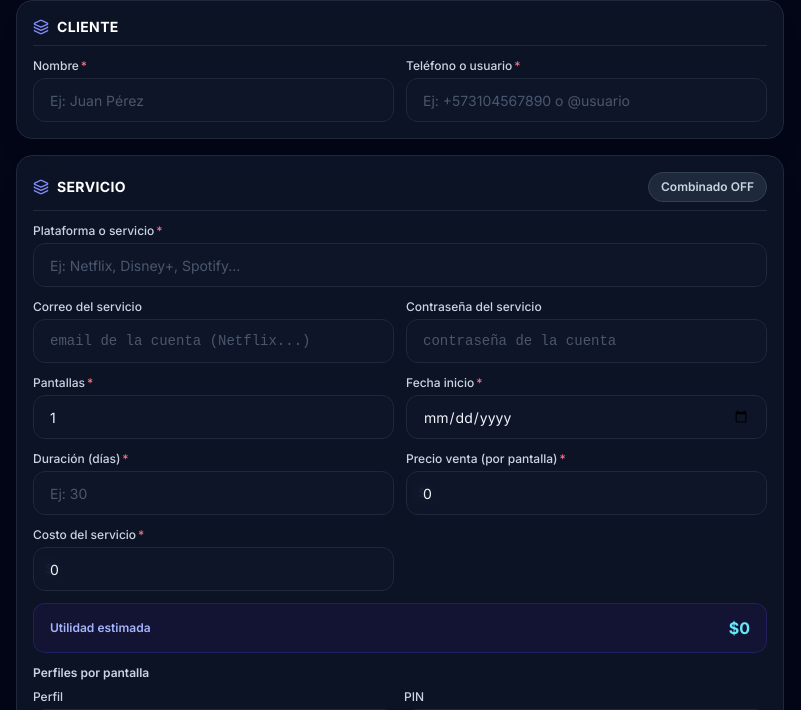
VentasForm — Autocompletado › carga datos del cliente existente al perder el foco del nombre
Type "Cliente Test" into the field with placeholder "Ej: Juan Pérez" at (214, 100), box [33,78,394,122]
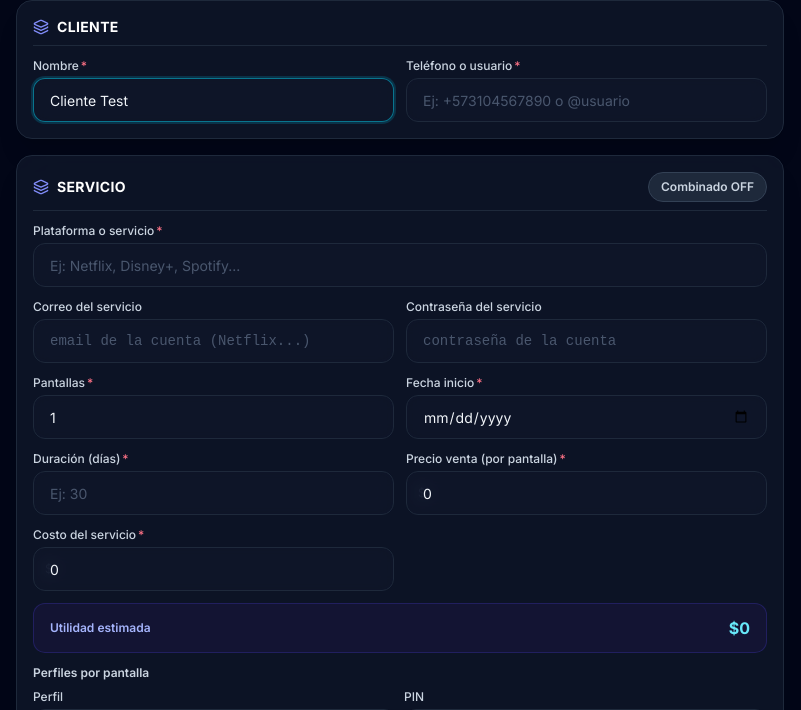
// Perder foco para disparar handleBlurNombre
Leave the field with placeholder "Ej: Juan Pérez", box [33,78,394,122]
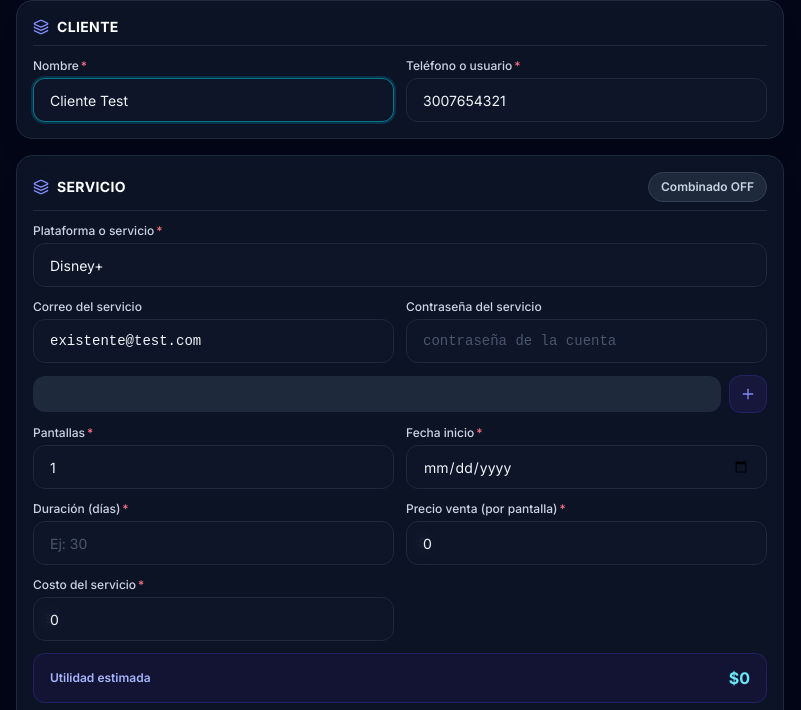
Expected: the field with placeholder "Ej: +573104567890 o @usuario" below "Teléfono o usuario" holds "3007654321", [406,78,767,122]
Expected: the field with placeholder "email de la cuenta (Netflix...)" below "Correo del servicio" holds "existente@test.com", [33,319,394,363]
Expected: the field with placeholder "Ej: Netflix, Disney+, Spotify..." below "Plataforma o servicio" holds "Disney+", [33,243,767,287]
